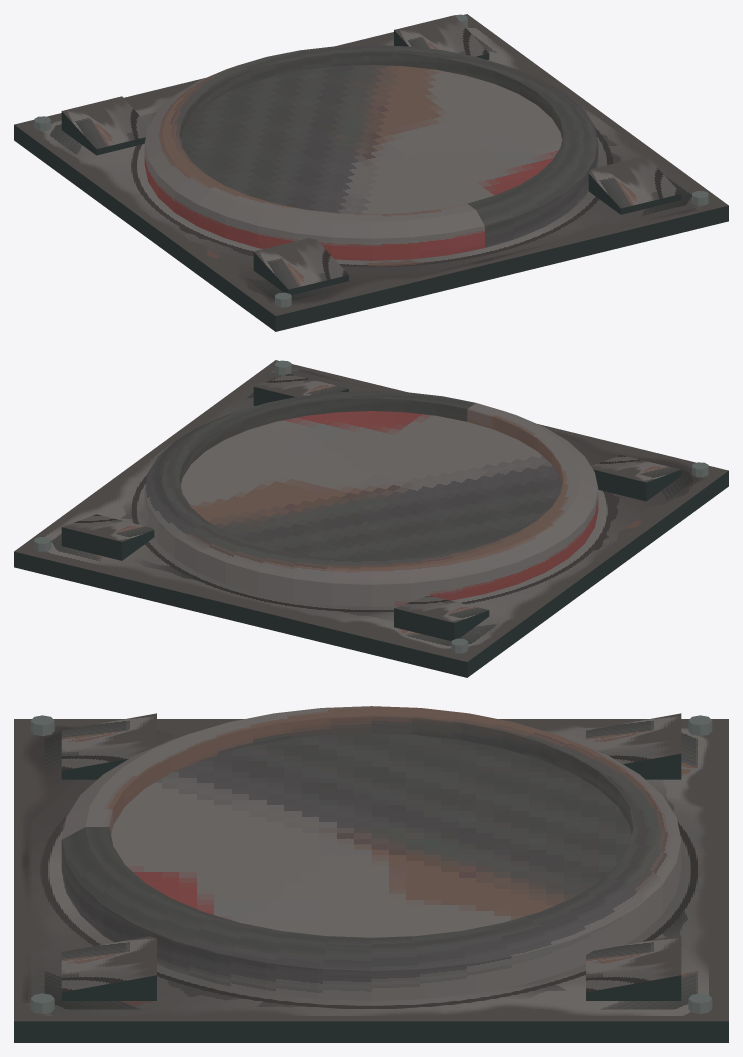
File: Building_AncientHeatVent.glb
The picture shows the model from 3 angles, top to bottom: view 1: azimuth 30°, elevation 25°; view 2: azimuth 150°, elevation 25°; view 3: azimuth 270°, elevation 25°; orthographic projection. The views are drawn at different scales.
Visible parts, largest first — view 1: AncientHeatVent; view 2: AncientHeatVent; view 3: AncientHeatVent.
Part boxes in pixels (x1=…): AncientHeatVent: x1=14, y1=14, x2=728, y2=331; AncientHeatVent: x1=14, y1=360, x2=728, y2=677; AncientHeatVent: x1=14, y1=706, x2=728, y2=1042.
Bounding box in the file's own units: 3 × 0.3 × 3.
1 material, 1 textured.
